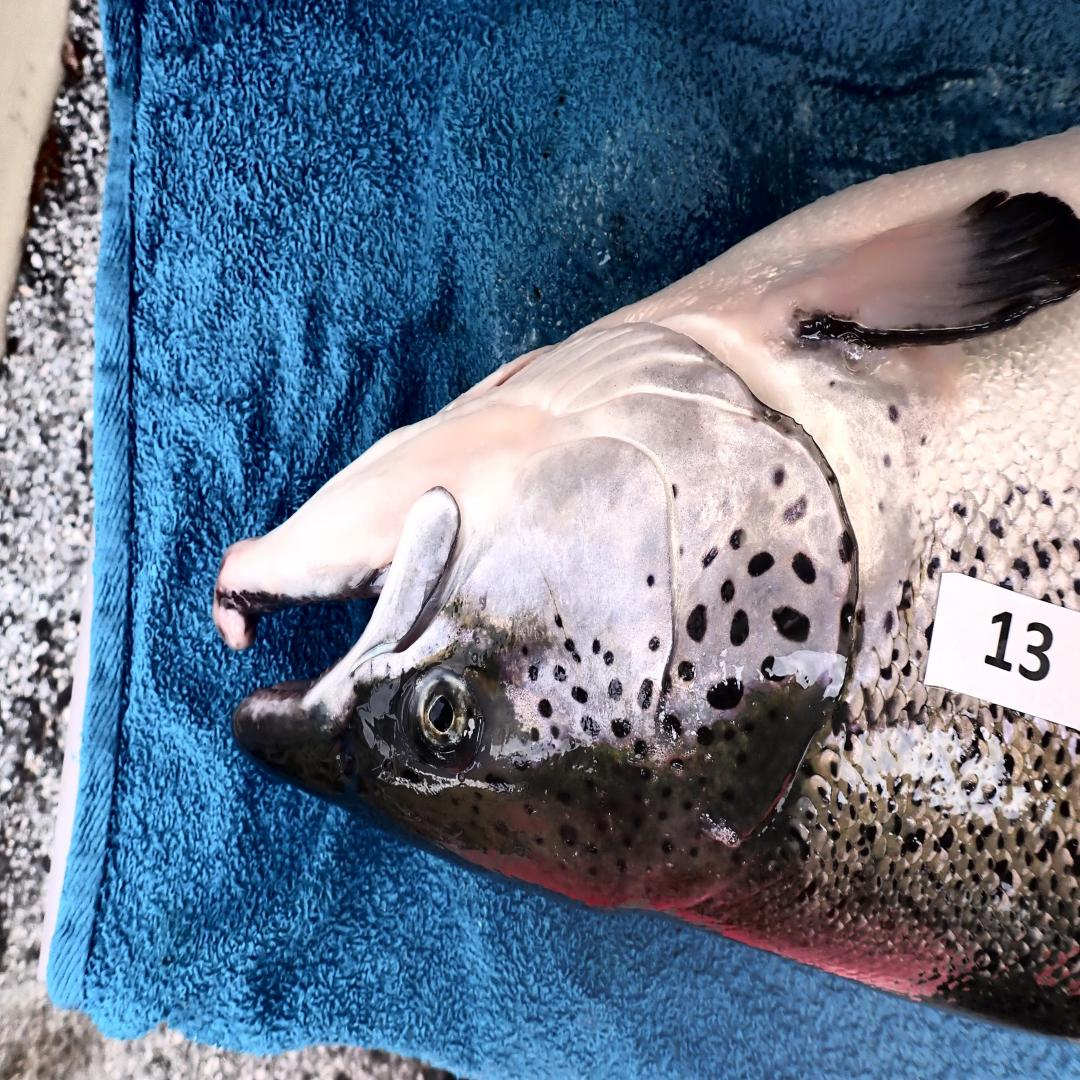spot: (772, 608, 810, 641), (707, 678, 742, 709), (792, 552, 816, 584), (686, 605, 707, 641), (730, 610, 749, 647), (759, 656, 785, 683), (749, 551, 774, 577), (783, 498, 806, 523), (637, 678, 654, 709), (840, 601, 855, 634), (662, 714, 681, 740), (580, 714, 599, 737), (840, 532, 854, 562), (730, 529, 747, 551), (660, 672, 673, 698), (702, 546, 717, 568), (612, 720, 631, 737), (608, 678, 622, 700), (679, 661, 694, 681), (721, 579, 734, 602), (572, 686, 589, 703), (538, 700, 553, 717), (635, 740, 648, 757), (774, 467, 785, 487), (555, 664, 567, 681), (648, 636, 660, 650), (603, 652, 614, 667), (555, 610, 563, 630), (565, 638, 576, 652), (572, 650, 582, 664), (529, 667, 538, 681), (593, 638, 601, 652), (648, 574, 656, 588), (551, 726, 559, 740), (671, 484, 679, 498), (521, 644, 529, 658), (532, 728, 540, 740), (679, 546, 683, 557)
